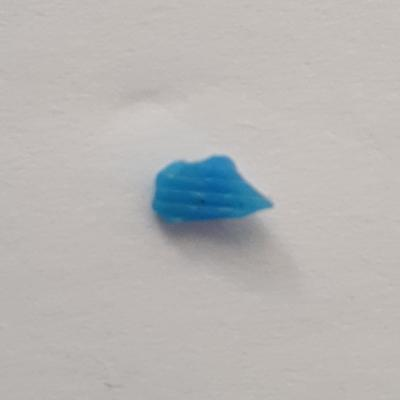plastic: (139, 151, 286, 239)
